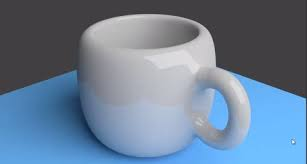cup: (70, 12, 263, 158)
